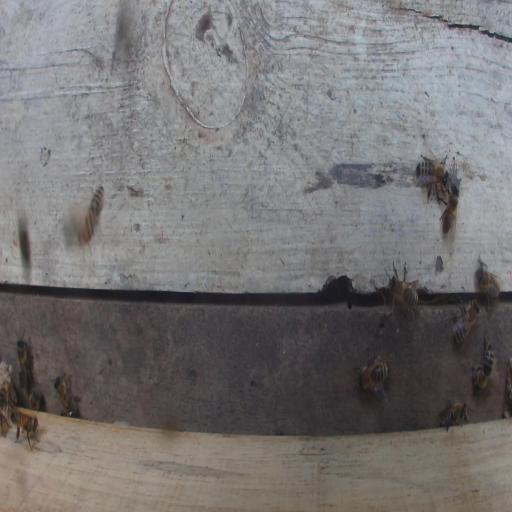bee: (69, 183, 105, 249), (354, 349, 390, 402), (414, 151, 449, 201), (390, 261, 419, 321), (450, 297, 480, 348), (470, 334, 493, 392), (475, 255, 502, 303), (10, 406, 39, 450), (53, 375, 80, 418), (439, 183, 459, 239), (16, 335, 35, 393), (439, 401, 469, 431), (0, 380, 19, 412), (29, 388, 44, 411)
